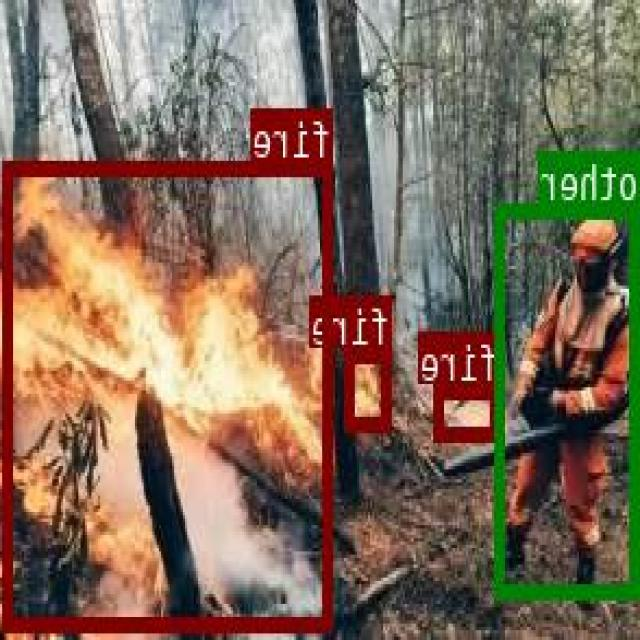fire: (5, 159, 334, 629), (348, 346, 394, 428), (436, 382, 502, 437)
other: (499, 200, 640, 594)
